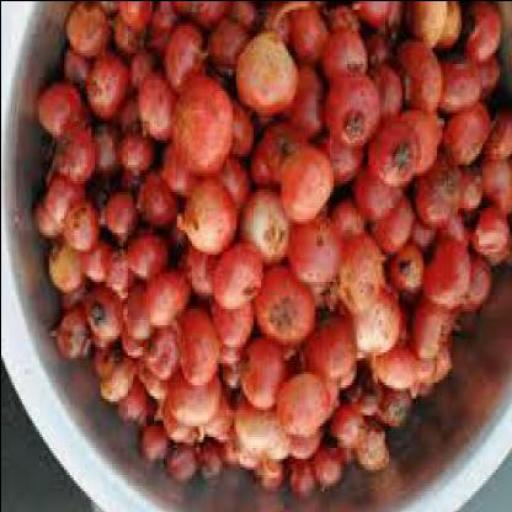biodegradable: (172, 76, 235, 182), (237, 39, 302, 122), (325, 229, 384, 319), (258, 267, 317, 351), (298, 311, 357, 392), (288, 218, 348, 294), (208, 239, 263, 316), (181, 182, 235, 259), (282, 149, 336, 226), (353, 286, 405, 365), (251, 119, 307, 191), (278, 66, 326, 147), (415, 150, 464, 229), (243, 193, 292, 272), (393, 40, 445, 114), (326, 76, 380, 147), (166, 22, 211, 101), (164, 376, 226, 433), (238, 345, 289, 414), (177, 308, 222, 386), (279, 373, 333, 438), (371, 120, 422, 188), (424, 245, 474, 310), (354, 163, 408, 223), (439, 46, 484, 118), (370, 196, 418, 262), (38, 82, 86, 147), (441, 104, 493, 163), (88, 54, 130, 126), (404, 6, 460, 57), (64, 3, 112, 62), (319, 36, 370, 90), (458, 2, 500, 66), (254, 2, 308, 50), (405, 112, 445, 174), (288, 9, 332, 65), (52, 306, 94, 364), (140, 172, 182, 230), (176, 246, 218, 304), (208, 20, 250, 78), (142, 76, 176, 147), (149, 270, 191, 327), (234, 403, 282, 452), (388, 248, 428, 306), (410, 302, 445, 368), (56, 128, 94, 188), (107, 242, 142, 306), (472, 210, 511, 266), (160, 142, 197, 201), (138, 180, 180, 231), (460, 264, 498, 319), (86, 290, 122, 348), (46, 177, 86, 229), (201, 392, 241, 444), (212, 302, 256, 349), (61, 202, 101, 253), (96, 351, 135, 403), (222, 158, 254, 221), (375, 357, 431, 393), (120, 128, 157, 182), (414, 3, 451, 57), (107, 190, 139, 251), (143, 330, 179, 384), (91, 126, 121, 190), (124, 280, 153, 344), (323, 134, 358, 185), (481, 158, 511, 216), (50, 242, 82, 296), (132, 232, 168, 280), (479, 108, 511, 162), (160, 406, 202, 447), (374, 65, 405, 120), (361, 2, 405, 40), (355, 427, 390, 474), (147, 3, 179, 54), (454, 164, 484, 218), (330, 411, 368, 452), (375, 395, 413, 436), (178, 3, 229, 33), (119, 390, 157, 430), (84, 237, 113, 289), (365, 30, 397, 76), (438, 210, 476, 248), (287, 457, 319, 502), (230, 101, 254, 160), (61, 46, 92, 91), (139, 364, 170, 409), (164, 444, 199, 482), (313, 449, 342, 494), (114, 22, 148, 60), (350, 382, 384, 420), (130, 52, 158, 98), (332, 3, 361, 44), (122, 93, 144, 145), (334, 204, 364, 242), (32, 204, 62, 240), (390, 302, 410, 352), (141, 430, 168, 466), (480, 57, 502, 101), (290, 433, 322, 463), (124, 3, 153, 35), (195, 444, 220, 479), (122, 327, 145, 362), (411, 221, 436, 253), (231, 3, 260, 30), (92, 188, 109, 234), (217, 344, 247, 370), (424, 363, 455, 387), (258, 466, 285, 493), (220, 368, 244, 395), (168, 232, 188, 264), (268, 431, 288, 463), (443, 316, 460, 351), (222, 439, 241, 468), (237, 449, 258, 474), (332, 452, 357, 471), (329, 387, 342, 422), (409, 389, 434, 406), (100, 2, 120, 20), (146, 398, 159, 420)
